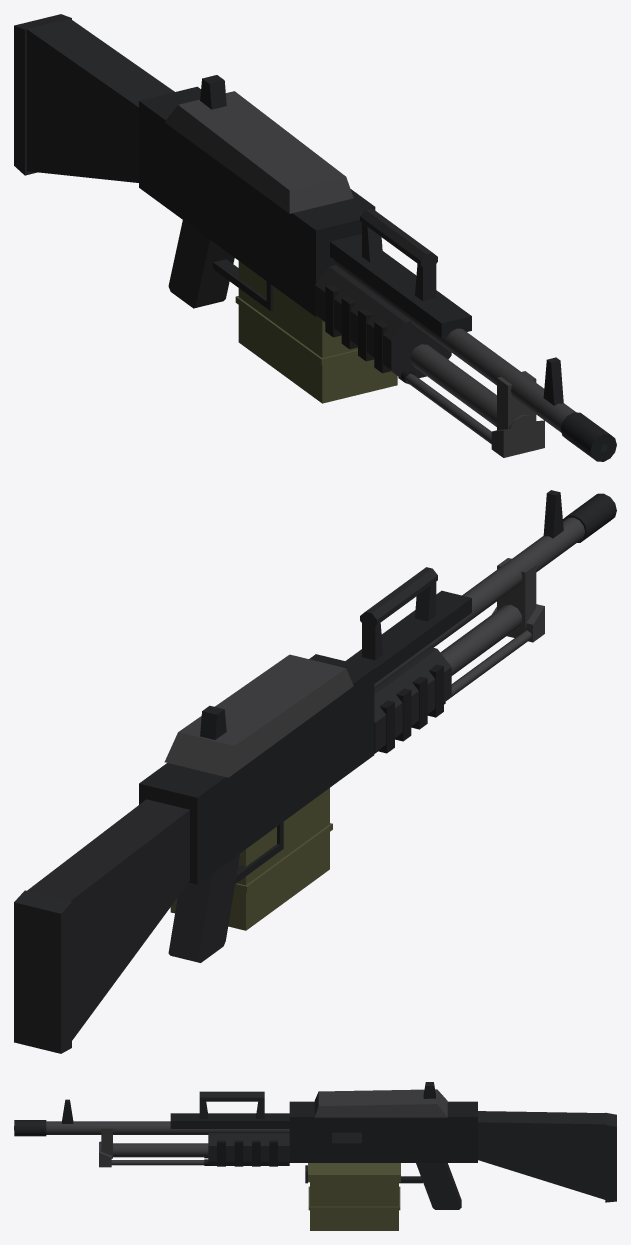
3 views of the same model, one above another, from view 1: azimuth 30°, elevation 25°; view 2: azimuth 150°, elevation 25°; view 3: azimuth 270°, elevation 25° (orthographic). The views are drawn at different scales.
Parts seen in each view (by area): view 1: m249; view 2: m249; view 3: m249.
Boxes of the visible parts, <box> form: m249: <box>14,14,616,461</box>; m249: <box>14,490,616,1053</box>; m249: <box>14,1082,616,1230</box>.
Size of the model in its own units: 0.113 by 0.244 by 1.04.
1 material, 1 textured.
